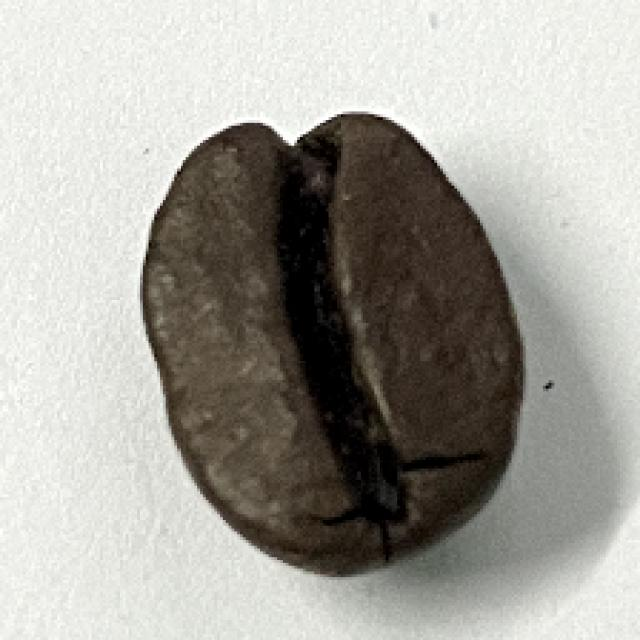bean: (141, 110, 528, 576)
